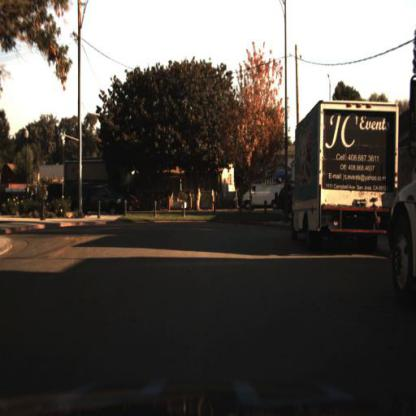car: (233, 179, 286, 210), (78, 182, 124, 217), (117, 193, 140, 214)
truck: (289, 96, 398, 254)
